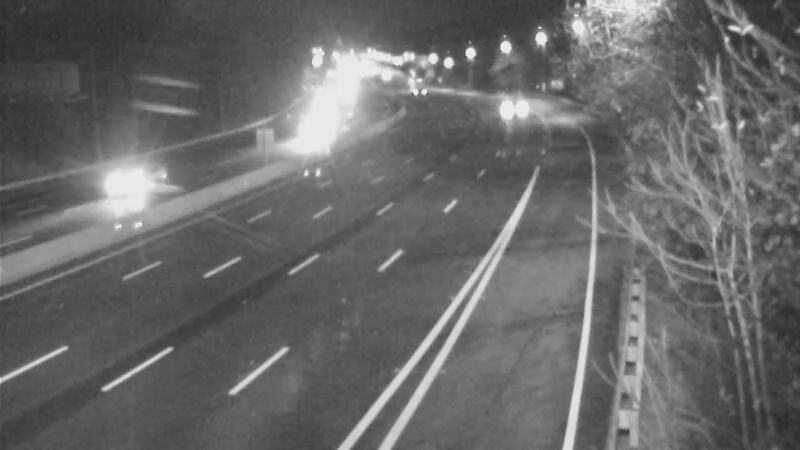vehicle: (88, 144, 168, 224), (387, 56, 437, 106), (485, 82, 535, 132), (290, 113, 340, 163)
